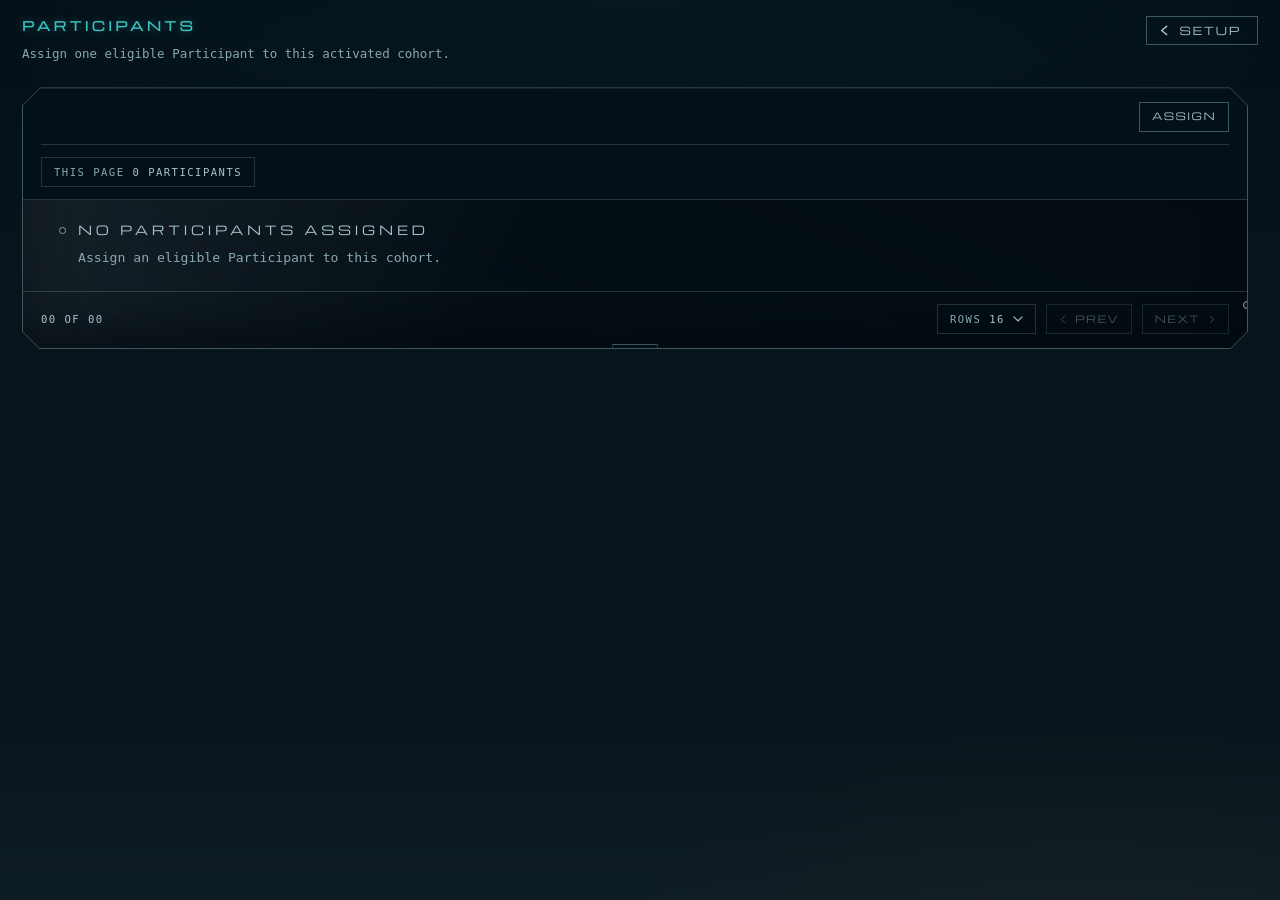
Test: ProductionEnrollmentPage › clears stale Assign picker rows and disables commit when search fails
Click the button "Assign" at (1184,117), box [1139,102,1229,132]
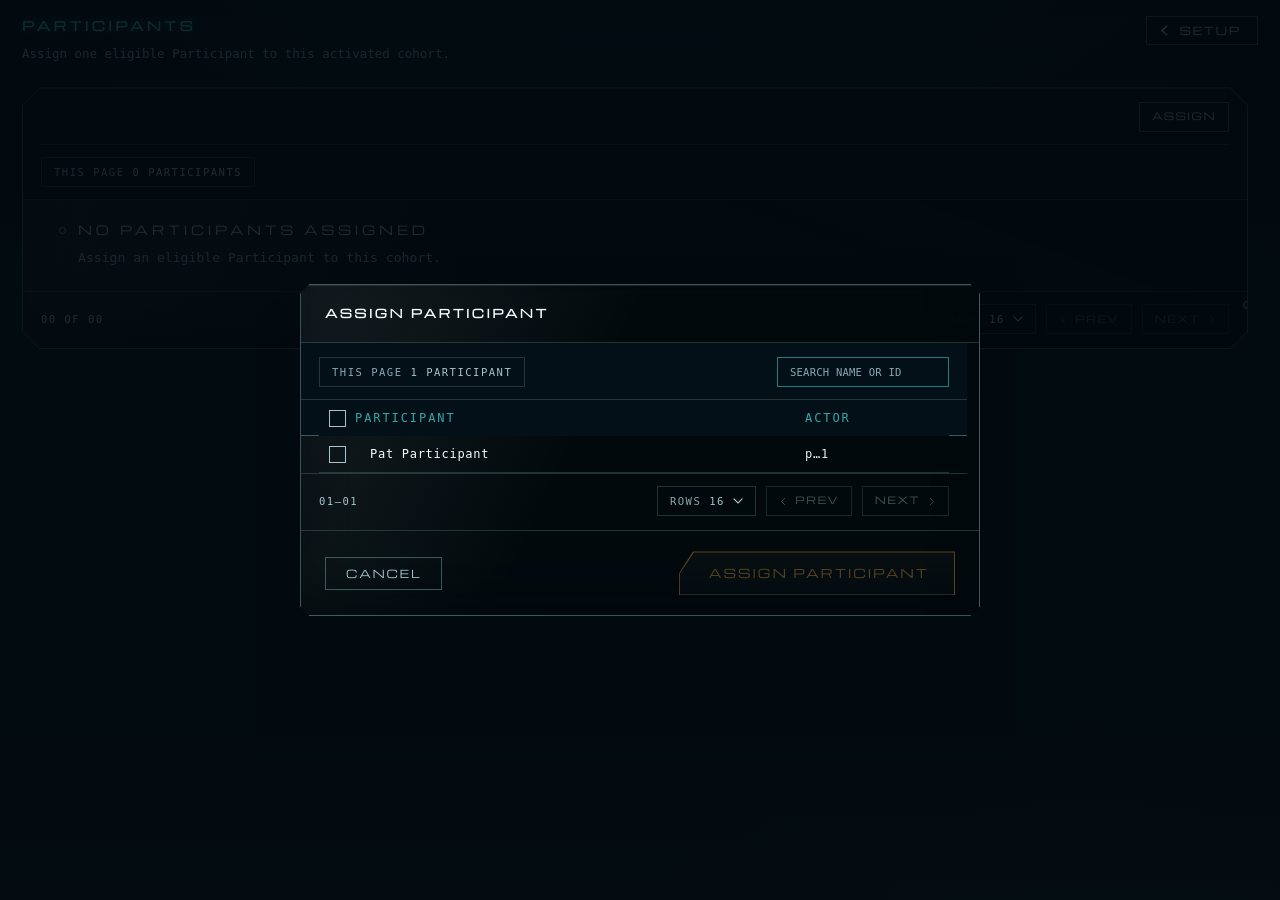
Click the button "Pat Participant" at (422,454), box [355,447,489,462]
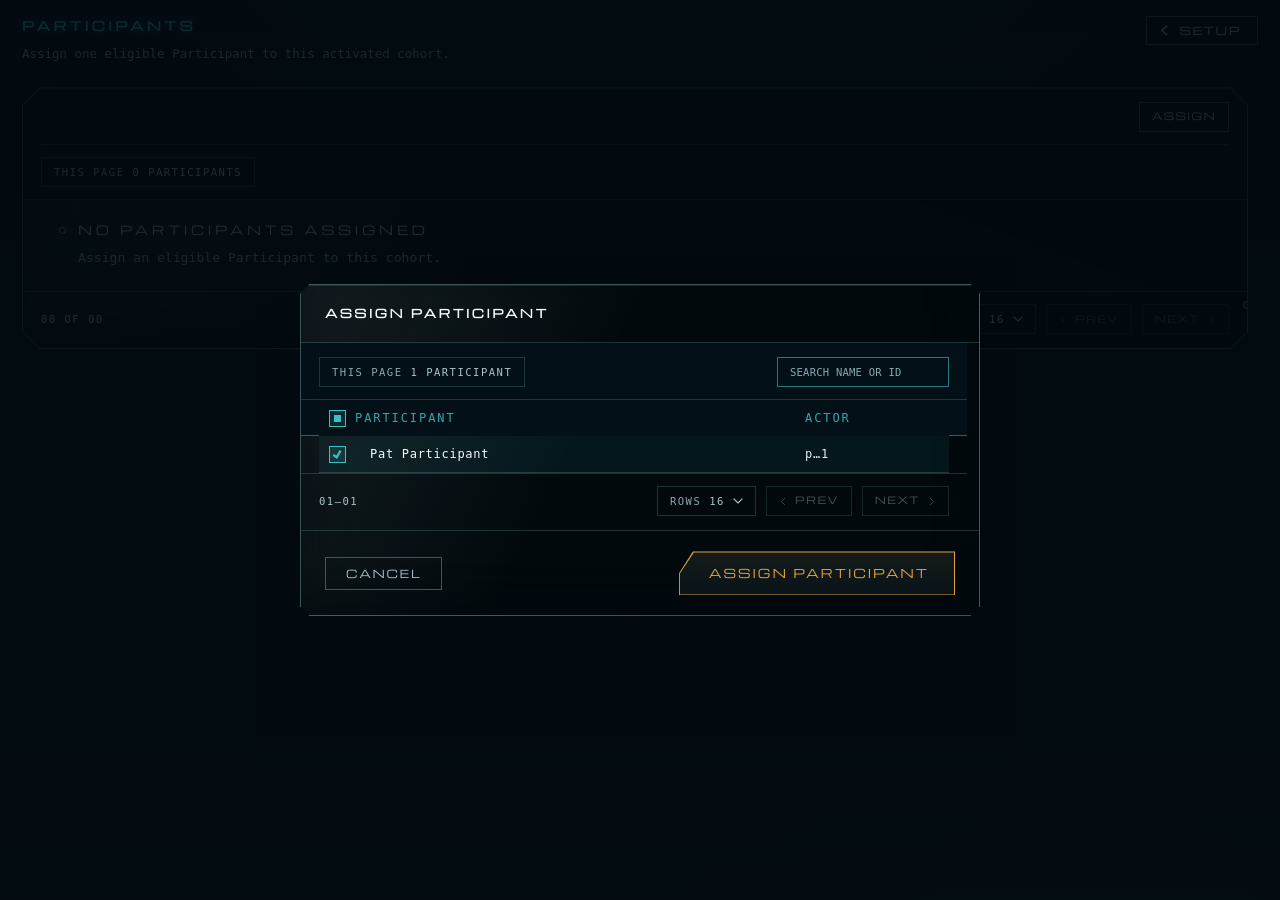
Now the button "Assign Participant" is enabled, box [679,551,955,595]
Type "Casey" into the search field named "Search participant or actor" at (863,372), box [778,358,948,386]
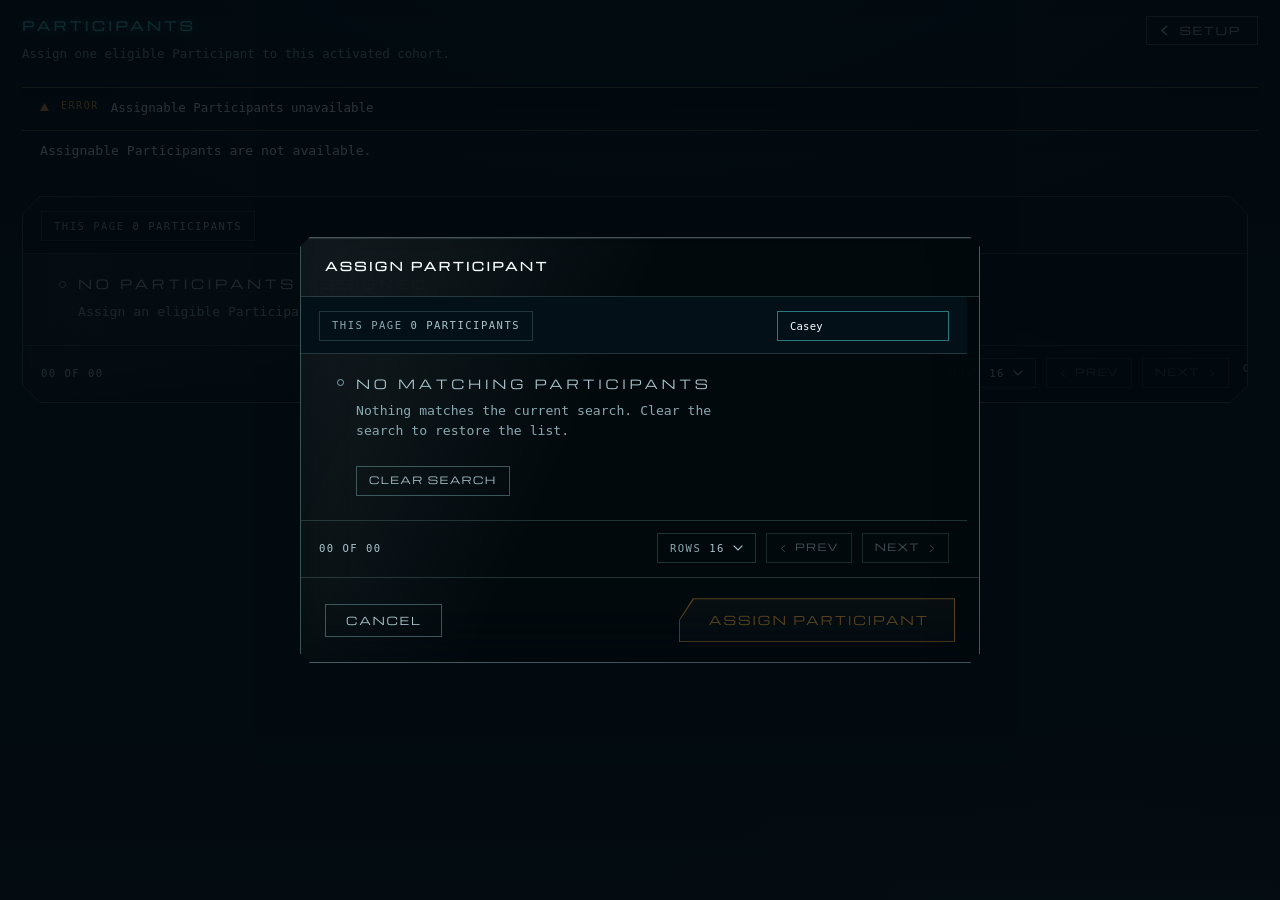
Now the text "Assignable Participants unavailable" is shown, box [111,100,374,115]
Now the button "Pat Participant" is gone
Now the button "Assign Participant" is disabled, box [679,598,955,642]
